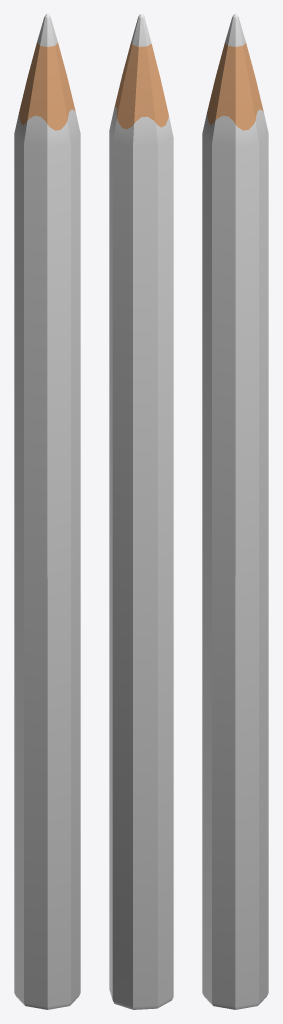
File: pencil_5.glb
3 renders of one model, left to right at view 1: azimuth 90°, elevation 25°; view 2: azimuth 210°, elevation 25°; view 3: azimuth 270°, elevation 25°, orthographic.
Visible parts, largest first — view 1: Cylinder.039; view 2: Cylinder.039; view 3: Cylinder.039.
Boxes of the visible parts, <box> form: Cylinder.039: <box>14,14,80,1009</box>; Cylinder.039: <box>109,14,173,1009</box>; Cylinder.039: <box>202,14,268,1009</box>.
Bounding box in the file's own units: 0.00842 × 0.1376 × 0.00842.
1 material, 1 textured.
